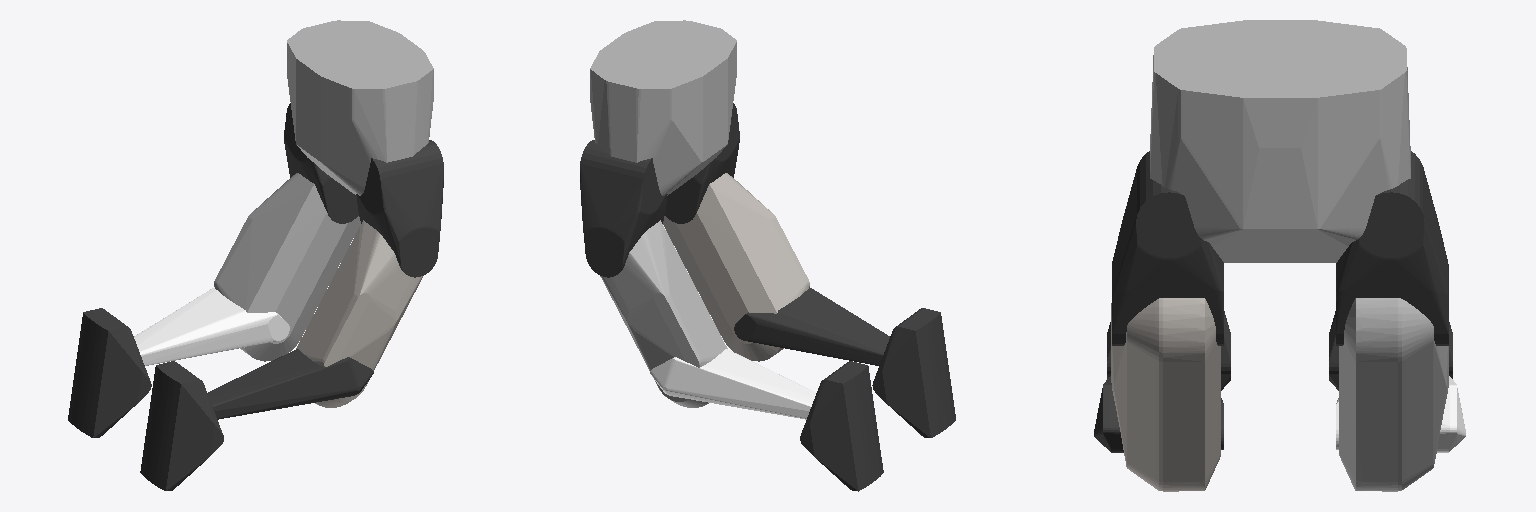
robot.urdf — spryped_urdf_rev06:
<?xml version="1.0" encoding="utf-8"?>
<!-- This URDF was automatically created by SolidWorks to URDF Exporter! Originally created by [author] ([email redacted]) 
     Commit Version: 1.5.1-0-g916b5db  Build Version: 1.5.7152.31018
     For more information, please see http://wiki.ros.org/sw_urdf_exporter -->
<robot
  name="spryped_urdf_rev06">
  <link
    name="body">
    <inertial>
      <origin
        xyz="0.047181 -3.0609E-06 0.076165"
        rpy="0 0 0" />
      <mass
        value="3.7038" />
      <inertia
        ixx="0.0033545"
        ixy="-3.2672E-09"
        ixz="8.3384E-06"
        iyy="0.0042956"
        iyz="-2.3336E-06"
        izz="0.0059126" />
    </inertial>
    <visual>
      <origin
        xyz="0 0 0"
        rpy="0 0 0" />
      <geometry>
        <mesh
          filename="body.obj"  scale="1 0.6 1.5"/>
      </geometry>
      <material
        name="">
        <color
          rgba="0.75294 0.75294 0.75294 1" />
      </material>
    </visual>
    <collision>
      <origin
        xyz="0 0 0"
        rpy="0 0 0" />
      <geometry>
        <mesh
          filename="body.obj" scale="1 0.1 1"/>
      </geometry>
    </collision>
  </link>
  <link
    name="left femur">
    <inertial>
      <origin
        xyz="0.00069777 0.056842 0.0014637"
        rpy="0 0 0" />
      <mass
        value="1.30999" />
      <inertia
        ixx="0.00070116"
        ixy="3.5726E-05"
        ixz="9.483E-08"
        iyy="0.00059024"
        iyz="-3.5642E-05"
        izz="0.00069104" />
    </inertial>
    <visual>
      <origin
        xyz="0 0 0"
        rpy="0 0 0" />
      <geometry>
        <mesh
          filename="left femur.obj"  />
      </geometry>
      <material
        name="">
        <color
          rgba="0.29804 0.29804 0.29804 1"  />
      </material>
    </visual>
    <collision>
      <origin
        xyz="0 0 0"
        rpy="0 0 0" />
      <geometry>
        <mesh
          filename="left femur.obj"  />
      </geometry>
    </collision>
  </link>
  <joint
    name="1"
    type="revolute">
    <origin
      xyz="0.051822 0.1 0.065904"
      rpy="-1.5708 0 0" />
    <parent
      link="body" />
    <child
      link="left femur" />
    <axis
      xyz="1 0 0" />
    <limit
      lower="0"
      upper="3.14"
      effort="80"
      velocity="10" />
    <dynamics damping="0.5" friction="0.5"/>
  </joint>
  <link
    name="left tibiotarsus">
    <inertial>
      <origin
        xyz="-0.0535 0.08423 -0.00048074"
        rpy="0 0 0" />
      <mass
        value="1.8773" />
      <inertia
        ixx="0.0034958"
        ixy="0.0014826"
        ixz="-8.2901E-08"
        iyy="0.0022584"
        iyz="1.2361E-07"
        izz="0.0053351" />
    </inertial>
    <visual>
      <origin
        xyz="0 0 0"
        rpy="0 0 0" />
      <geometry>
        <mesh
          filename="left tibiotarsus.obj" />
      </geometry>
      <material
        name="">
        <color
          rgba="0.75294 0.75294 0.75294 1" />
      </material>
    </visual>
    <collision>
      <origin
        xyz="0 0 0"
        rpy="0 0 0" />
      <geometry>
        <mesh
          filename="left tibiotarsus.obj"  />
      </geometry>
    </collision>
  </link>
  <joint
    name="2"
    type="revolute">
    <origin
      xyz="0 0.114 0"
      rpy="0 0 0" />
    <parent
      link="left femur" />
    <child
      link="left tibiotarsus" />
    <axis
      xyz="0 0 -1" />
    <limit
      lower="-0.5"
      upper="2"
      effort="80"
      velocity="15" />
    <dynamics damping="0.5" friction="0.5"/>
  </joint>
  <link
    name="left tarsometatarsus">
    <inertial>
      <origin
        xyz="0.053129 0.093369 0.015338"
        rpy="0 0 0" />
      <mass
        value="1.38839" />
      <inertia
        ixx="0.00096573"
        ixy="-0.00056636"
        ixz="-1.259E-05"
        iyy="0.0010982"
        iyz="4.5106E-05"
        izz="0.0015965" />
    </inertial>
    <visual>
      <origin
        xyz="0 0 0"
        rpy="0 0 0" />
      <geometry>
        <mesh
          filename="left tarsometatarsus.obj" scale="0.5 0.5 1" />
      </geometry>
      <material
        name="">
        <color
          rgba="1 1 1 1" />
      </material>
    </visual>
    <collision>
      <origin
        xyz="0 0 0"
        rpy="0 0 0" />
      <geometry>
        <mesh
          filename="left tarsometatarsus.obj" scale="0.5 0.5 1" />
      </geometry>
    </collision>
  </link>
  <joint
    name="3"
    type="revolute">
    <origin
      xyz="-0.105453933582408 0.168761571135129 0"
      rpy="0 0 0.558505360638189" />
    <parent
      link="left tibiotarsus" />
    <child
      link="left tarsometatarsus" />
    <axis
      xyz="0 0 -1" />
    <limit
      lower="-2.7"
      upper="-0.75"
      effort="80"
      velocity="15" />
    <dynamics damping="0.5" friction="0.5"/>
  </joint>
  <link
    name="left toe">
    <inertial>
      <origin
        xyz="-0.015193 0.829454 -8.5534E-11"
        rpy="0 0 0" />
      <mass
        value="0.11189" />
      <inertia
        ixx="4.0659E-05"
        ixy="-3.5337E-05"
        ixz="7.6361E-13"
        iyy="0.00018716"
        iyz="7.4475E-14"
        izz="0.00021756" />
    </inertial>
    <visual>
      <origin
        xyz="0 0 0"
        rpy="0 0 0" />
      <geometry>
        <mesh
          filename="left toe.obj"  scale="1 1 3.5" />
      </geometry>
      <material
        name="">
        <color
          rgba="0.29804 0.29804 0.29804 1" />
      </material>
    </visual>
    <collision>
      <origin
        xyz="0 0 0"
        rpy="0 0 0" />
      <geometry>
        <mesh
          filename="left toe.obj" scale="1 1 3.5" />
      </geometry>
    </collision>
  </link>
  <joint
    name="4"
    type="revolute">
    <origin
      xyz="0.168429623081206 0.14603956697683 -0.000249999999999057"
      rpy="0 0 -0.771008986271208" />
    <parent
      link="left tarsometatarsus" />
    <child
      link="left toe" />
    <axis
      xyz="0 0 -1" />
    <limit
      lower="-1"
      upper="1.5"
      effort="80"
      velocity="30" />
    <dynamics damping="0.5" friction="0.5"/>
  </joint>
  <link
    name="right femur">
    <inertial>
      <origin
        xyz="0.00069773 0.056842 -0.0014638"
        rpy="0 0 0" />
      <mass
        value="1.30999" />
      <inertia
        ixx="0.00070116"
        ixy="3.5726E-05"
        ixz="-9.5179E-08"
        iyy="0.00059025"
        iyz="3.5642E-05"
        izz="0.00069104" />
    </inertial>
    <visual>
      <origin
        xyz="0 0 0"
        rpy="0 0 0" />
      <geometry>
        <mesh
          filename="right femur.obj" />
      </geometry>
      <material
        name="">
        <color
          rgba="0.29804 0.29804 0.29804 1" />
      </material>
    </visual>
    <collision>
      <origin
        xyz="0 0 0"
        rpy="0 0 0" />
      <geometry>
        <mesh
          filename="right femur.obj" />
      </geometry>
    </collision>
  </link>
  <joint
    name="5"
    type="revolute">
    <origin
      xyz="0.051822 -0.1 0.065904"
      rpy="-1.5708 0 0" />
    <parent
      link="body" />
    <child
      link="right femur" />
    <axis
      xyz="1 0 0" />
    <limit
      lower="-3.14"
      upper="0"
      effort="80"
      velocity="10" />
    <dynamics damping="0.5" friction="0.5"/>
  </joint>
  <link
    name="right tibiotarsus">
    <inertial>
      <origin
        xyz="-0.053501 0.08423 0.00041314"
        rpy="0 0 0" />
      <mass
        value="1.8772" />
      <inertia
        ixx="0.0034958"
        ixy="0.0014826"
        ixz="7.9551E-08"
        iyy="0.0022584"
        iyz="-1.374E-07"
        izz="0.0053351" />
    </inertial>
    <visual>
      <origin
        xyz="0 0 0"
        rpy="0 0 0" />
      <geometry>
        <mesh
          filename="right tibiotarsus.obj" />
      </geometry>
      <material
        name="">
        <color
          rgba="0.77647 0.75686 0.73725 1" />
      </material>
    </visual>
    <collision>
      <origin
        xyz="0 0 0"
        rpy="0 0 0" />
      <geometry>
        <mesh
          filename="right tibiotarsus.obj" />
      </geometry>
    </collision>
  </link>
  <joint
    name="6"
    type="revolute">
    <origin
      xyz="0 0.114000000000013 0"
      rpy="0 0 0" />
    <parent
      link="right femur" />
    <child
      link="right tibiotarsus" />
    <axis
      xyz="0 0 1" />
    <limit
      lower="-2"
      upper="0.6"
      effort="80"
      velocity="15" />
    <dynamics damping="0.5" friction="0.5"/>
  </joint>
  <link
    name="right tarsometatarsus">
    <inertial>
      <origin
        xyz="0.053129 0.093369 -0.015837"
        rpy="0 0 0" />
      <mass
        value="1.38839" />
      <inertia
        ixx="0.00096573"
        ixy="-0.00056636"
        ixz="1.2589E-05"
        iyy="0.0010982"
        iyz="-4.5106E-05"
        izz="0.0015965" />
    </inertial>
    <visual>
      <origin
        xyz="0 0 0"
        rpy="0 0 0" />
      <geometry>
        <mesh
          filename="right tarsometatarsus.obj" scale="0.5 0.5 1" />
      </geometry>
      <material
        name="">
        <color
          rgba="0.29804 0.29804 0.29804 1" />
      </material>
    </visual>
    <collision>
      <origin
        xyz="0 0 0"
        rpy="0 0 0" />
      <geometry>
        <mesh
          filename="right tarsometatarsus.obj"  scale="0.5 0.5 1"/>
      </geometry>
    </collision>
  </link>
  <joint
    name="7"
    type="revolute">
    <origin
      xyz="-0.105453933582408 0.168761571135127 0"
      rpy="0 0 0.55850536063819" />
    <parent
      link="right tibiotarsus" />
    <child
      link="right tarsometatarsus" />
    <axis
      xyz="0 0 1" />
    <limit
      lower="0.75"
      upper="2.7"
      effort="80"
      velocity="15" />
    <dynamics damping="0.5" friction="0.5"/>
  </joint>
  <link
    name="right toe">
    <inertial>
      <origin
        xyz="-0.015193 0.829454 -8.5534E-11"
        rpy="0 0 0" />
      <mass
        value="0.11189" />
      <inertia
        ixx="4.0659E-05"
        ixy="-3.5337E-05"
        ixz="7.6361E-13"
        iyy="0.00018716"
        iyz="7.4475E-14"
        izz="0.00021756" />
    </inertial>
    <visual>
      <origin
        xyz="0 0 0"
        rpy="0 0 0" />
      <geometry>
        <mesh
          filename="right toe.obj" scale="1 1 3.5"  />
      </geometry>
      <material
        name="">
        <color
          rgba="0.29804 0.29804 0.29804 1" />
      </material>
    </visual>
    <collision>
      <origin
        xyz="0 0 0"
        rpy="0 0 0" />
      <geometry>
        <mesh
          filename="right toe.obj" scale="1 1 3.5"  />
      </geometry>
    </collision>
  </link>
  <joint
    name="8"
    type="revolute">
    <origin
      xyz="0.168429623081206 0.14603956697683 -0.000249999999999057"
      rpy="0 0 -0.771008986271209" />
    <parent
      link="right tarsometatarsus" />
    <child
      link="right toe" />
    <axis
      xyz="0 0 1" />
    <limit
      lower="-1.5"
      upper="1"
      effort="80"
      velocity="30" />
    <dynamics damping="0.5" friction="0.5"/>
  </joint>
</robot>

--- Facts derived from the render (not from the file) ---
The picture shows the robot from 3 angles, left to right: view 1: azimuth 30°, elevation 25°; view 2: azimuth 150°, elevation 25°; view 3: azimuth 270°, elevation 25°; orthographic projection.
Model spryped_urdf_rev06 with 9 links and 8 joints (8 revolute), rooted at body, posed all joints at 0 but 2 set to mid-range because 0 is outside their limits (3 = -1.73, 7 = 1.73).
Links seen in each view (by area): view 1: body, left tibiotarsus, right tibiotarsus, right femur, left toe, right toe, left tarsometatarsus, right tarsometatarsus, left femur; view 2: body, right tibiotarsus, left tibiotarsus, left femur, right toe, left toe, right tarsometatarsus, left tarsometatarsus, right femur; view 3: body, left tibiotarsus, right tibiotarsus, left femur, right femur, right tarsometatarsus, left tarsometatarsus, left toe, right toe.
Boxes of the visible links, x1,y1,x2,y2 form: body: [287, 20, 433, 195]; left tibiotarsus: [214, 173, 360, 361]; right tibiotarsus: [296, 220, 422, 407]; right femur: [356, 140, 443, 277]; left toe: [68, 308, 151, 437]; right toe: [140, 361, 223, 490]; left tarsometatarsus: [134, 287, 289, 365]; right tarsometatarsus: [208, 349, 373, 419]; left femur: [284, 103, 358, 223]; body: [590, 20, 736, 195]; right tibiotarsus: [663, 173, 809, 361]; left tibiotarsus: [600, 220, 727, 407]; left femur: [580, 140, 667, 277]; right toe: [872, 308, 955, 437]; left toe: [800, 361, 883, 491]; right tarsometatarsus: [734, 287, 889, 365]; left tarsometatarsus: [650, 349, 815, 419]; right femur: [665, 103, 739, 223]; body: [1150, 20, 1410, 262]; left tibiotarsus: [1339, 298, 1448, 491]; right tibiotarsus: [1111, 298, 1220, 491]; left femur: [1336, 151, 1448, 345]; right femur: [1112, 151, 1223, 345]; right tarsometatarsus: [1094, 376, 1223, 452]; left tarsometatarsus: [1336, 376, 1465, 452]; left toe: [1329, 311, 1452, 390]; right toe: [1107, 311, 1230, 390].
Size in the robot's own frame: 0.4754 by 0.3347 by 0.521 metres.
9 mesh visuals loaded from 9 distinct referenced files (9 OBJ).